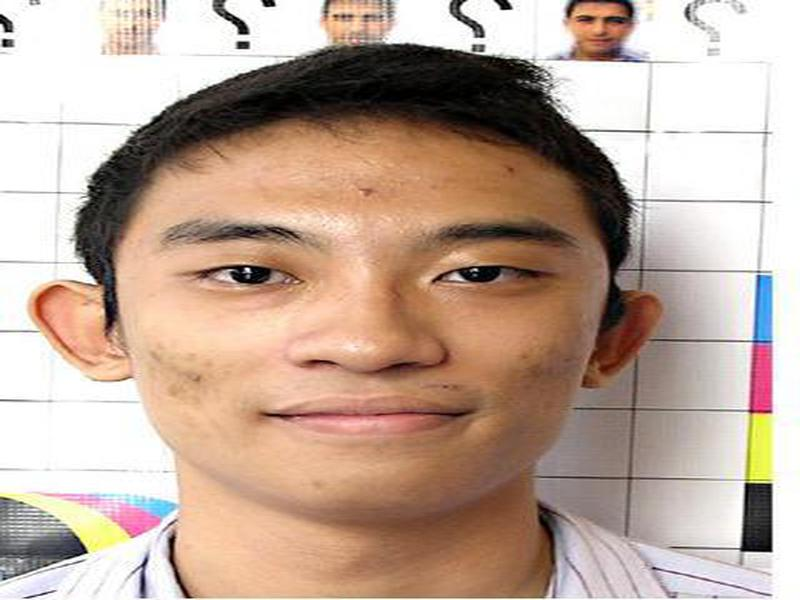without_mask: (114, 155, 604, 521)
